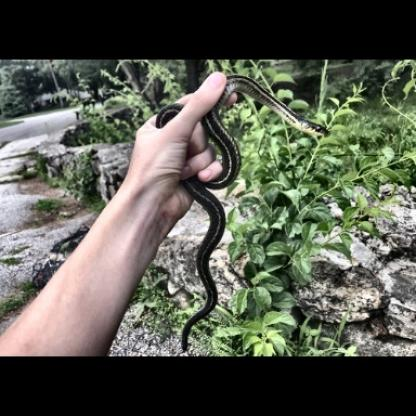Snake: (155, 61, 330, 348)
